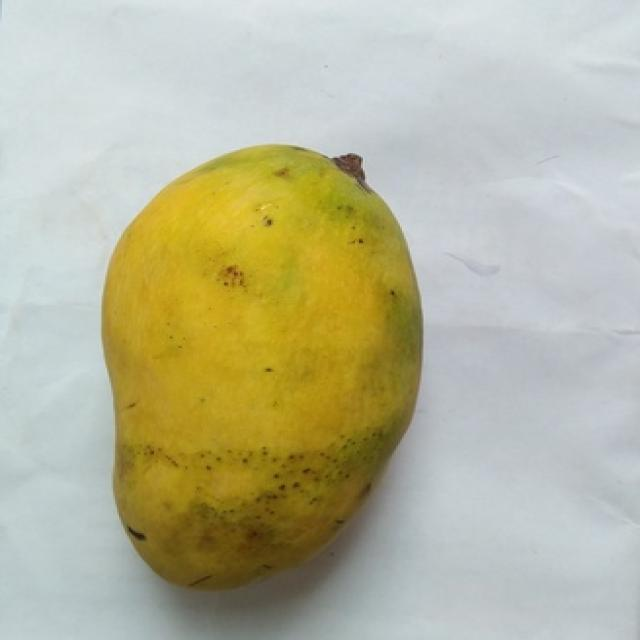Mango: (101, 145, 421, 587)
